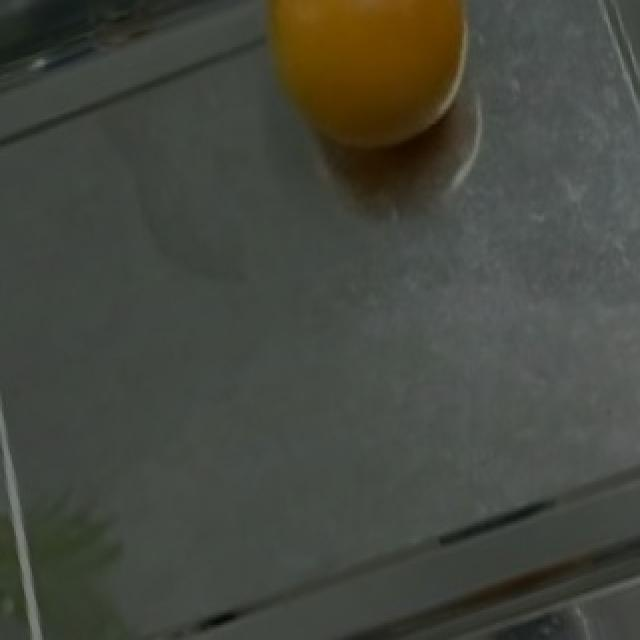Fruit: (236, 0, 494, 181)
